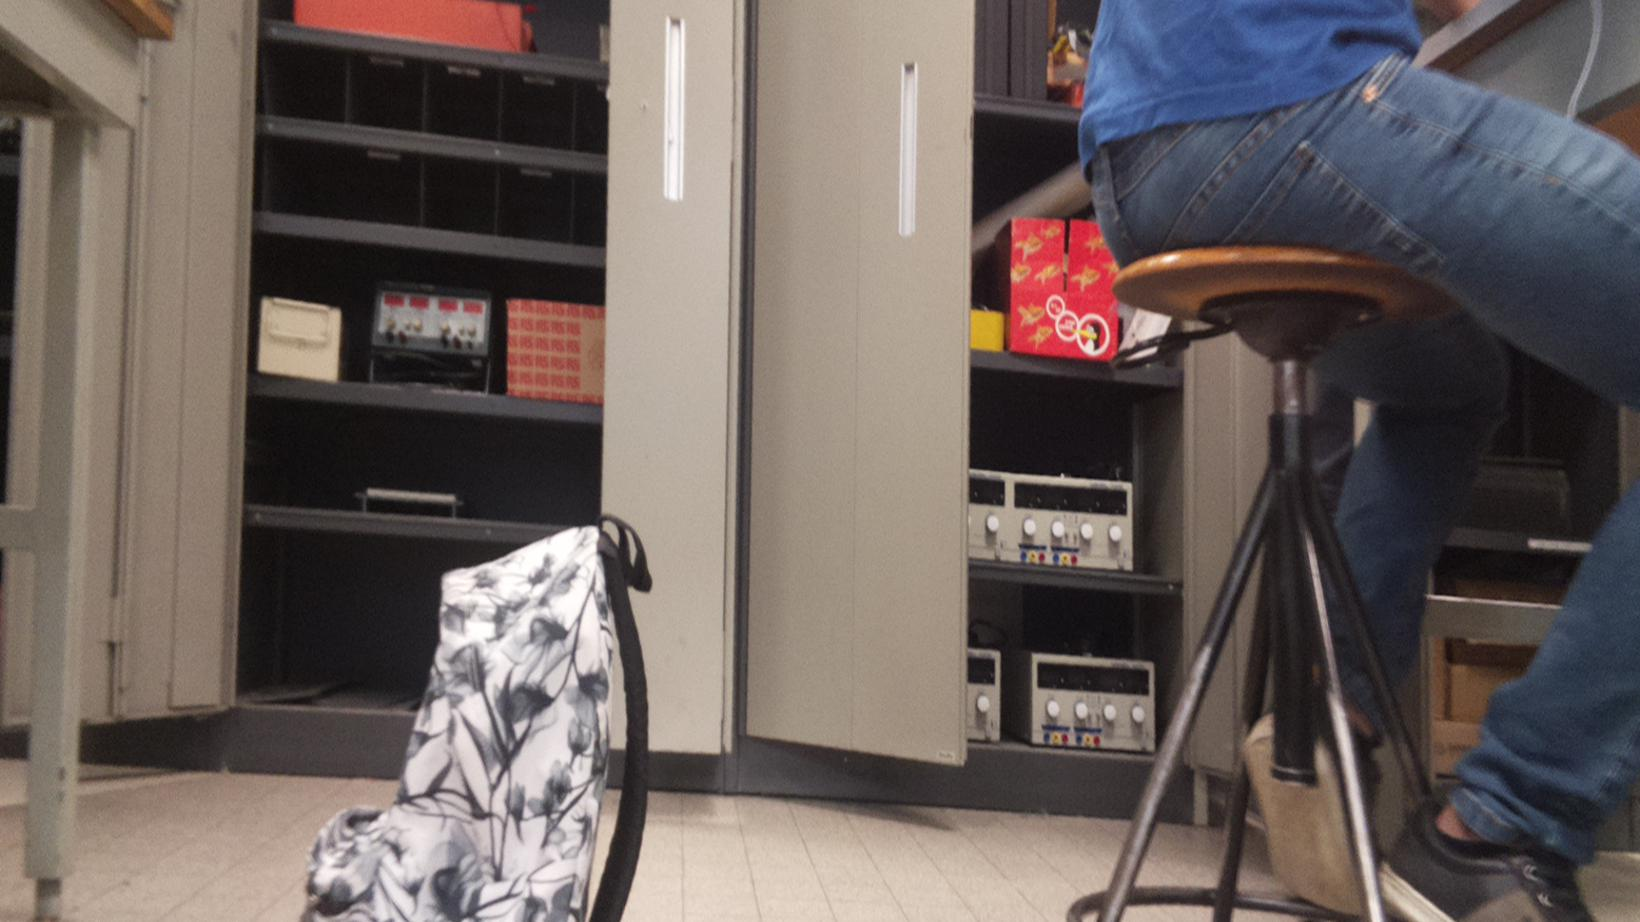big: (305, 516, 658, 922)
